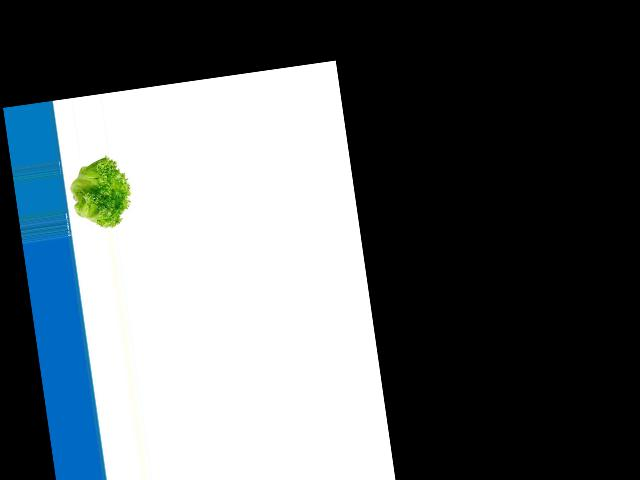lettuce: (62, 155, 137, 233)
